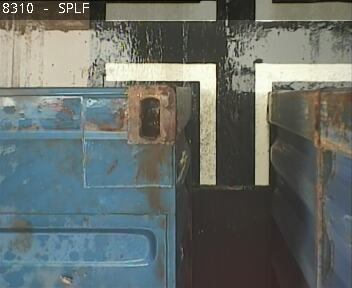groundmarker_1: (103, 62, 352, 184)
